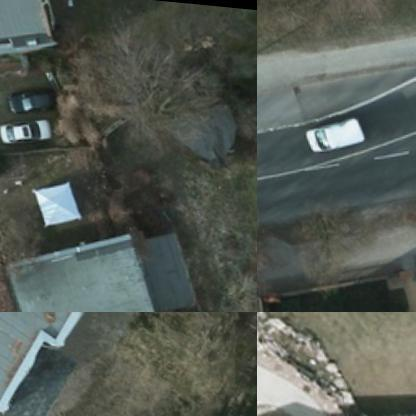car: (302, 105, 364, 149), (3, 78, 56, 117), (0, 106, 51, 146)
